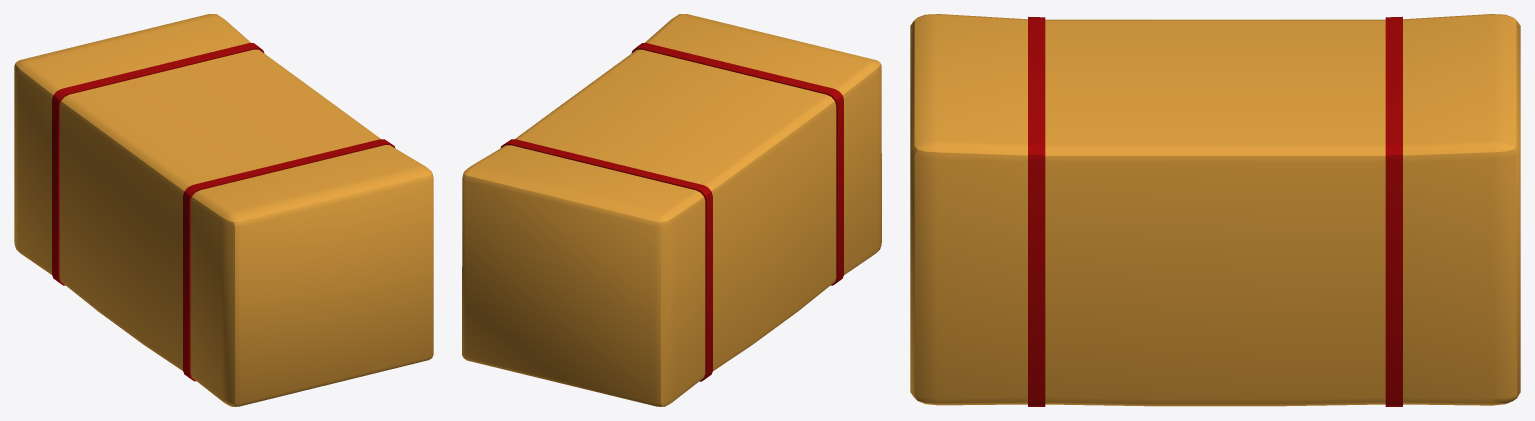
File: Haybale.fbx
3 renders of one model, left to right at view 1: azimuth 30°, elevation 25°; view 2: azimuth 150°, elevation 25°; view 3: azimuth 270°, elevation 25°, orthographic. The views are drawn at different scales.
Visible parts, largest first — view 1: Cube.010; view 2: Cube.010; view 3: Cube.010.
Part boxes in pixels (box(x1,y1,x2,y2)): Cube.010: box(14, 14, 433, 406); Cube.010: box(462, 14, 881, 406); Cube.010: box(910, 14, 1520, 406).
Bounding box in the file's own units: 197 × 174 × 364.
